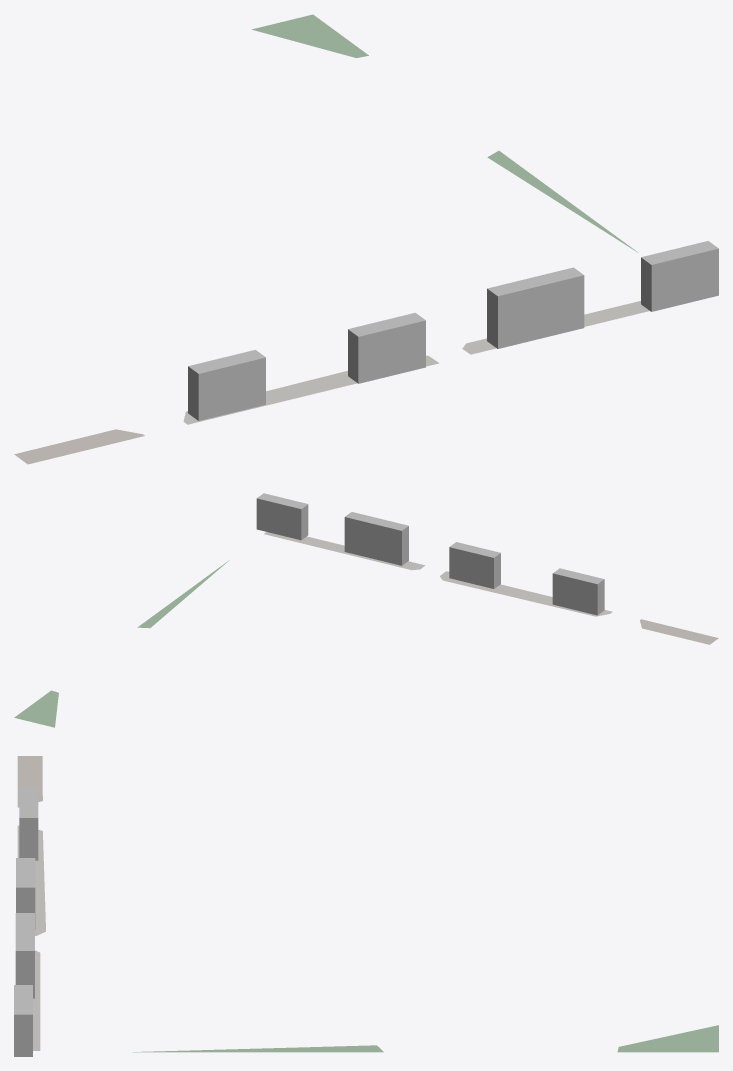
File: 129_83_mid.glb
3 renders of one model, top to bottom at view 1: azimuth 30°, elevation 25°; view 2: azimuth 150°, elevation 25°; view 3: azimuth 270°, elevation 25°, orthographic. The views are drawn at different scales.
Bounding box in the file's own units: 511 × 38.61 × 502.
